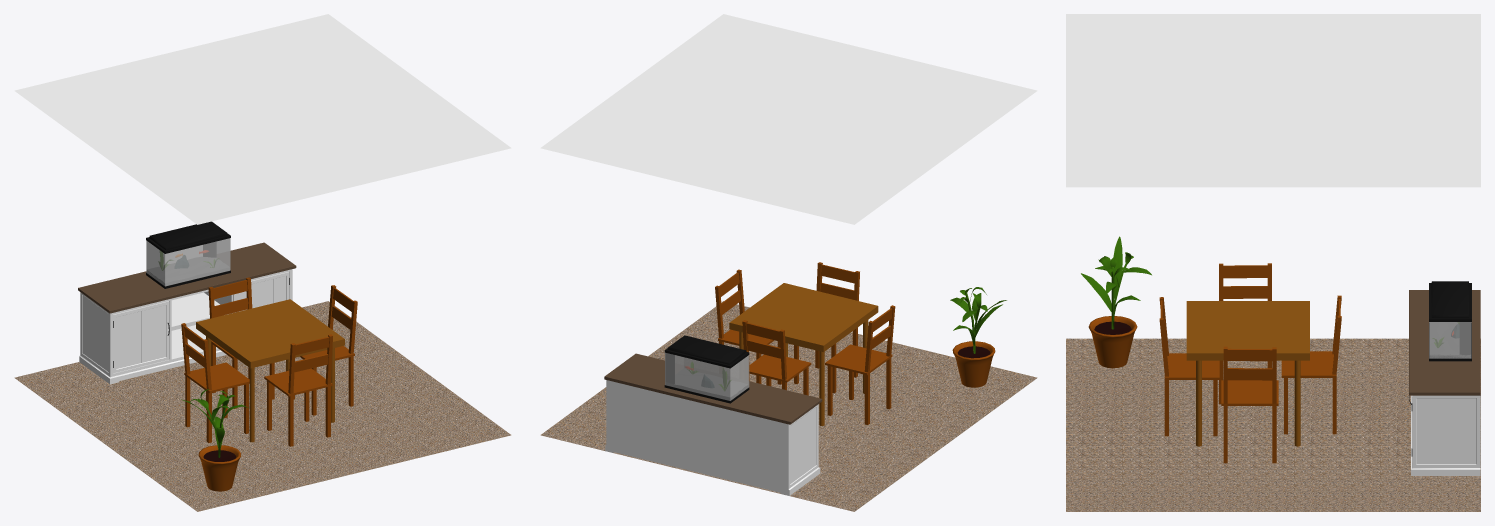
File: Comedor.obj
3 views of the same model, side by side, from view 1: azimuth 30°, elevation 25°; view 2: azimuth 150°, elevation 25°; view 3: azimuth 270°, elevation 25° (orthographic). The views are drawn at different scales.
Visible parts, largest first — view 1: room_1_2, room_1_1, Plateau_11, dresser_48, top_50, sweethome3d_opening_on_hinge_1_door_55, sweethome3d_window_pane_72, Pot_16_99, Top_21_74, sweethome3d_opening_on_hinge_2_door_59, Assise_44, Assise_35 (+1 smaller); view 2: room_1_2, room_1_1, dresser_48, Plateau_11, top_50, sweethome3d_window_pane_72, Top_21_74, Pot_16_99, Assise_44, Assise_17, Ground_5_71; view 3: room_1_2, room_1_1, Plateau_11, dresser_48, top_50, sweethome3d_window_pane_72, Pot_16_99, Top_21_74, Assise_26, Assise_17, Assise_35, Ground_5_71 (+6 smaller).
Part boxes in pixels (left/top/right/bottom): room_1_2: left=14, top=14, right=511, bottom=224; room_1_1: left=14, top=301, right=511, bottom=511; Plateau_11: left=196, top=299, right=344, bottom=368; dresser_48: left=79, top=269, right=292, bottom=384; top_50: left=78, top=242, right=296, bottom=313; sweethome3d_opening_on_hinge_1_door_55: left=113, top=301, right=169, bottom=373; sweethome3d_window_pane_72: left=146, top=238, right=230, bottom=286; Pot_16_99: left=198, top=445, right=240, bottom=491; Top_21_74: left=149, top=221, right=227, bottom=249; sweethome3d_opening_on_hinge_2_door_59: left=233, top=272, right=289, bottom=312; Assise_44: left=184, top=362, right=249, bottom=393; Assise_35: left=264, top=368, right=332, bottom=396; room_1_2: left=540, top=14, right=1037, bottom=224; room_1_1: left=540, top=301, right=1037, bottom=511; dresser_48: left=605, top=380, right=820, bottom=495; Plateau_11: left=729, top=283, right=878, bottom=352; top_50: left=604, top=353, right=822, bottom=424; sweethome3d_window_pane_72: left=665, top=352, right=749, bottom=400; Top_21_74: left=668, top=335, right=745, bottom=364; Pot_16_99: left=952, top=341, right=995, bottom=387; Assise_44: left=825, top=344, right=892, bottom=374; Assise_17: left=749, top=354, right=811, bottom=382; Ground_5_71: left=675, top=368, right=747, bottom=396; room_1_2: left=1066, top=14, right=1480, bottom=187; room_1_1: left=1066, top=338, right=1480, bottom=511; Plateau_11: left=1186, top=301, right=1309, bottom=360; dresser_48: left=1411, top=395, right=1480, bottom=475; top_50: left=1409, top=290, right=1480, bottom=395; sweethome3d_window_pane_72: left=1429, top=322, right=1471, bottom=358; Pot_16_99: left=1088, top=316, right=1137, bottom=368; Top_21_74: left=1431, top=281, right=1468, bottom=317; Assise_26: left=1221, top=380, right=1278, bottom=405; Assise_17: left=1281, top=351, right=1336, bottom=377; Assise_35: left=1164, top=353, right=1219, bottom=379; Ground_5_71: left=1430, top=322, right=1459, bottom=354.
Bounding box in the file's own units: 286 × 250 × 290.
15 materials, 1 textured.
